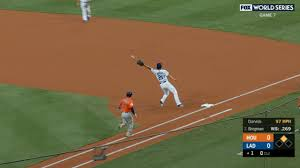baseball: (129, 54, 136, 61)
baseball player: (138, 59, 185, 109), (118, 90, 138, 140)
